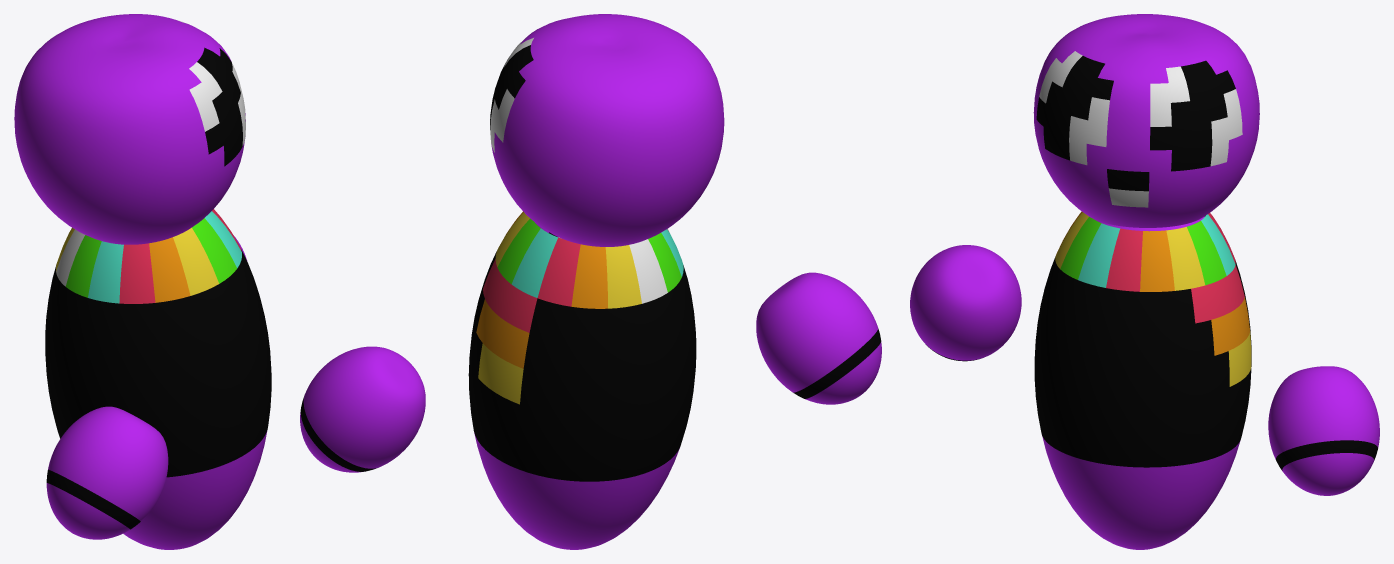
Rendered from littleguy.fbx.
3 renders of one model, left to right at view 1: azimuth 30°, elevation 25°; view 2: azimuth 150°, elevation 25°; view 3: azimuth 270°, elevation 25°, orthographic. The views are drawn at different scales.
Parts seen in each view (by area): view 1: Body, Head, Arm 1; view 2: Body, Head, Arm 1, Arm 2; view 3: Body, Head, Arm 2, Arm 1.
Boxes of the visible parts, x1,y1,x2,y2 form: Body: [45, 209, 271, 549]; Head: [14, 14, 245, 244]; Arm 1: [46, 406, 168, 539]; Body: [468, 211, 696, 549]; Head: [490, 14, 724, 246]; Arm 1: [756, 272, 881, 404]; Arm 2: [300, 346, 425, 472]; Body: [1034, 211, 1251, 549]; Head: [1033, 14, 1259, 227]; Arm 2: [1268, 366, 1379, 495]; Arm 1: [910, 245, 1021, 361].
Bounding box in the file's own units: 381 × 499 × 427.
